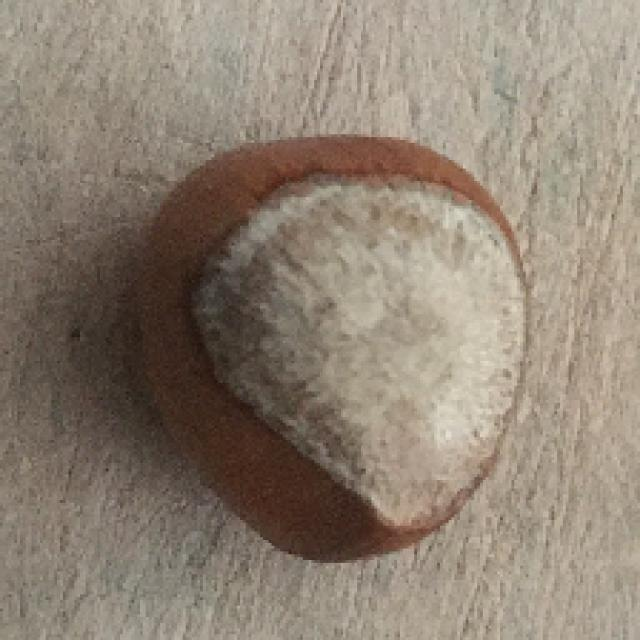qualityHazelnut: (140, 119, 530, 571)
